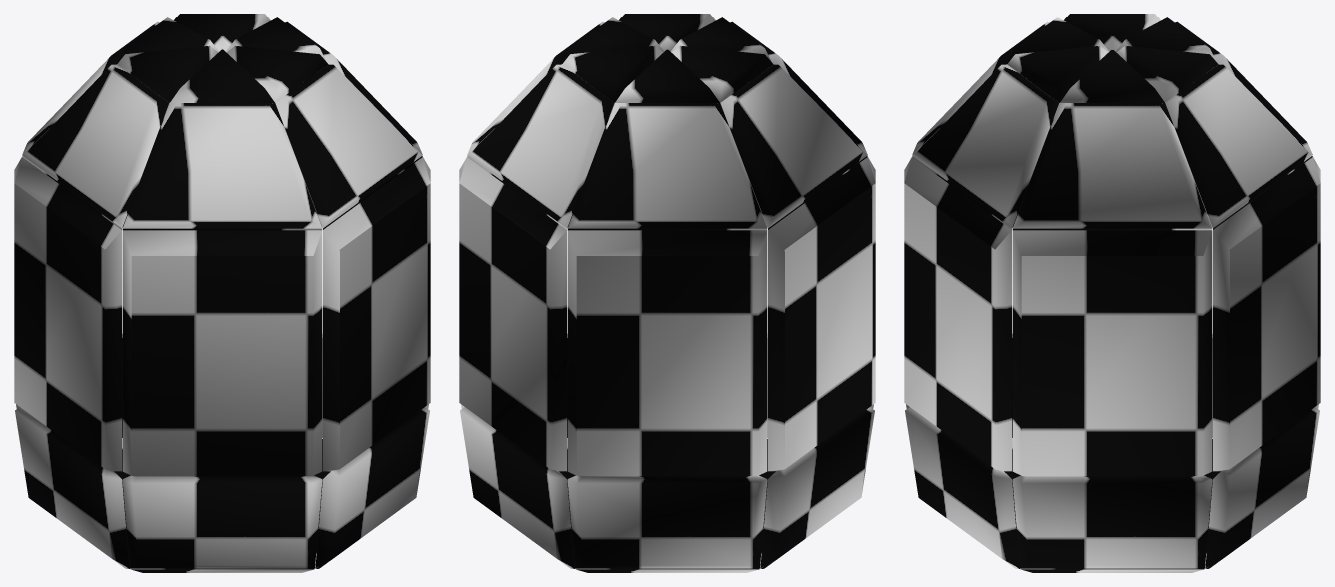
File: streuner_guard_turret_base.obj
3 renders of one model, left to right at view 1: azimuth 30°, elevation 25°; view 2: azimuth 150°, elevation 25°; view 3: azimuth 270°, elevation 25°, orthographic.
Parts seen in each view (by area): view 1: Flower; view 2: Flower; view 3: Flower.
Boxes of the visible parts, left/top/right/bottom form: Flower: left=14, top=14, right=430, bottom=572; Flower: left=459, top=14, right=875, bottom=572; Flower: left=904, top=14, right=1320, bottom=572.
Bounding box in the file's own units: 53.69 × 74.17 × 59.49.
Materials: 1 (1 with a texture image).
